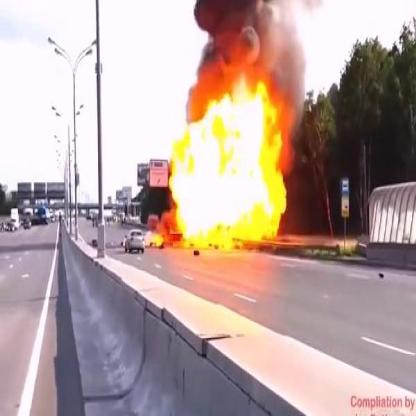fire: (165, 68, 291, 254), (146, 226, 165, 249)
